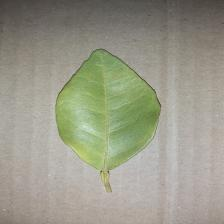greening: (48, 45, 166, 199)
